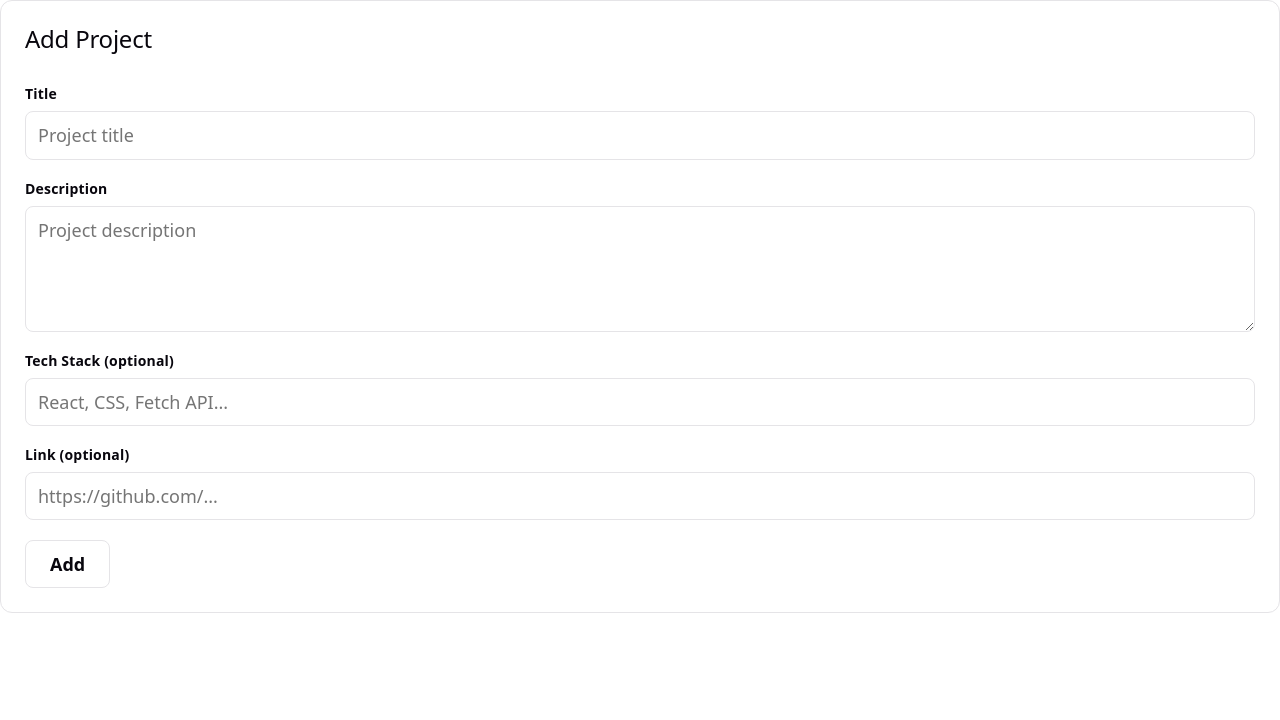
Test case: AddProjectForm › shows an error and does not submit when required fields are empty
Click the button "Add" at (68, 564), box [25,540,110,588]
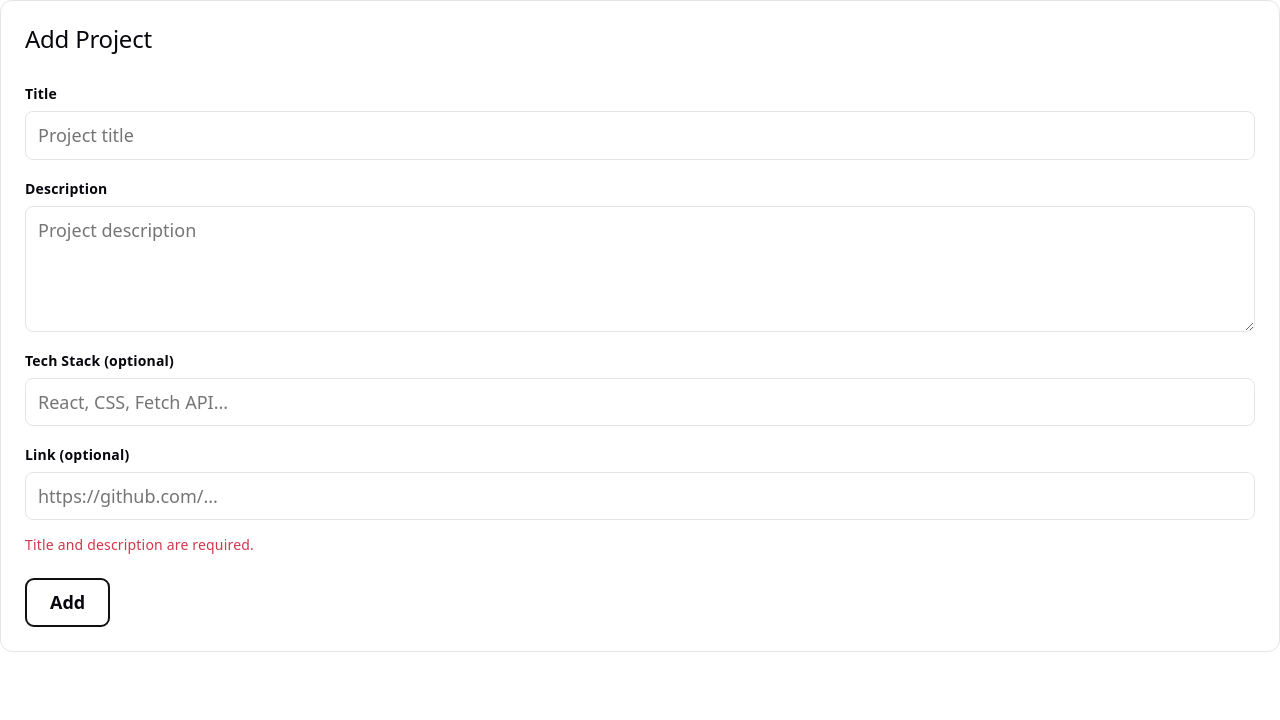
Result: the message "Title and description are required." is shown at [25,535,254,554]
